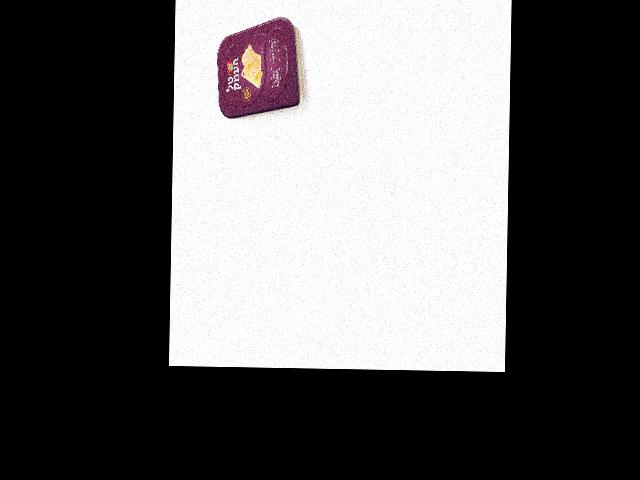cheese: (215, 15, 306, 120)
